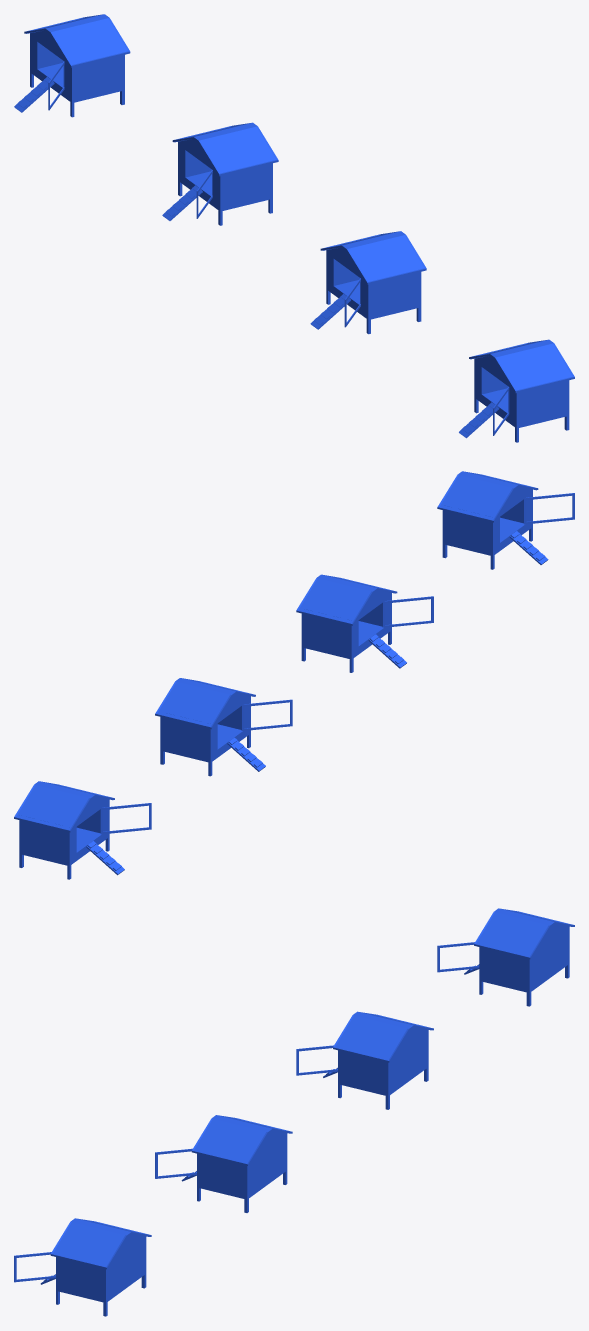
The model's file is Casa Gallo.FBX.
3 views of the same model, one above another, from view 1: azimuth 30°, elevation 25°; view 2: azimuth 150°, elevation 25°; view 3: azimuth 330°, elevation 25° (orthographic). The views are drawn at different scales.
Parts seen in each view (by area): view 1: Casa Gallo; view 2: Casa Gallo; view 3: Casa Gallo.
Boxes of the visible parts, x1,y1,x2,y2 form: Casa Gallo: (14, 14, 574, 442); Casa Gallo: (14, 471, 574, 879); Casa Gallo: (14, 908, 574, 1316).
Bounding box in the file's own units: 33.53 × 25.97 × 323.
